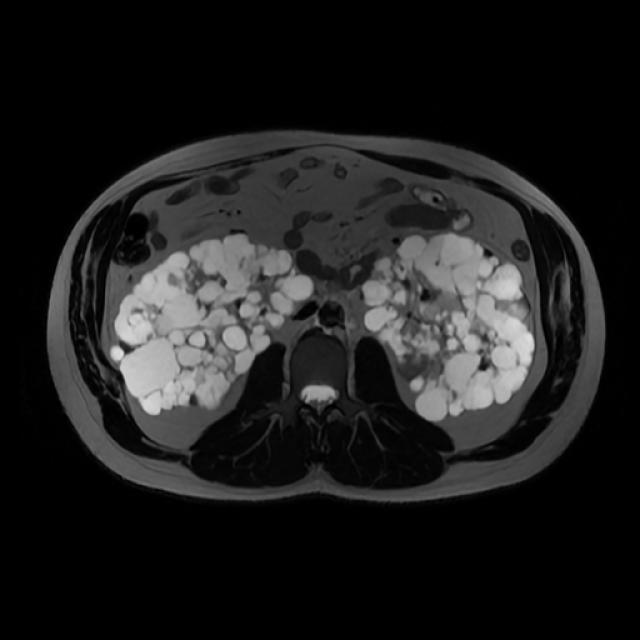sag: (107, 232, 316, 419)
sol: (362, 232, 538, 422)
